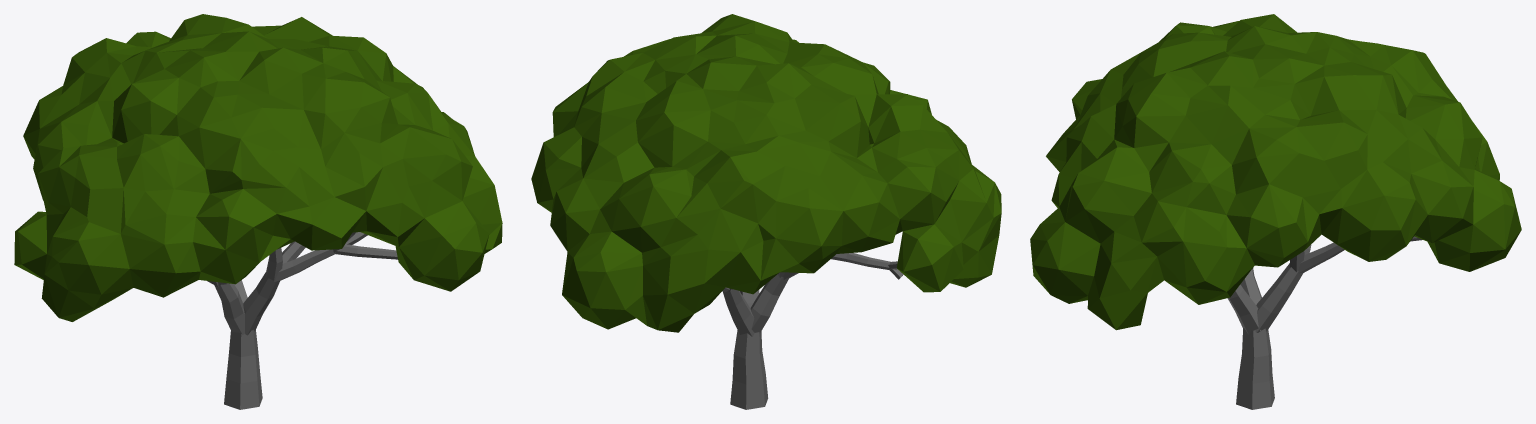
Rendered from SM__Deciduous__Tree__Growth__3.fbx.
The picture shows the model from 3 angles, left to right: view 1: azimuth 30°, elevation 25°; view 2: azimuth 150°, elevation 25°; view 3: azimuth 270°, elevation 25°; orthographic projection. The views are drawn at different scales.
Visible parts, largest first — view 1: normal2; view 2: normal2; view 3: normal2.
Boxes of the visible parts, bbox=[...] form: normal2: bbox=[14, 14, 502, 409]; normal2: bbox=[531, 14, 1001, 409]; normal2: bbox=[1030, 14, 1521, 409].
Size of the model in its own units: 9.47 by 7.58 by 9.42.
